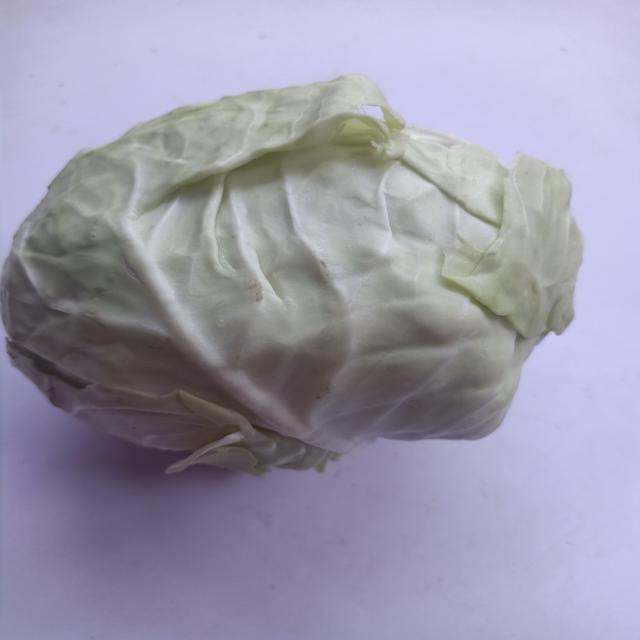Cabbage: (5, 69, 608, 489)
